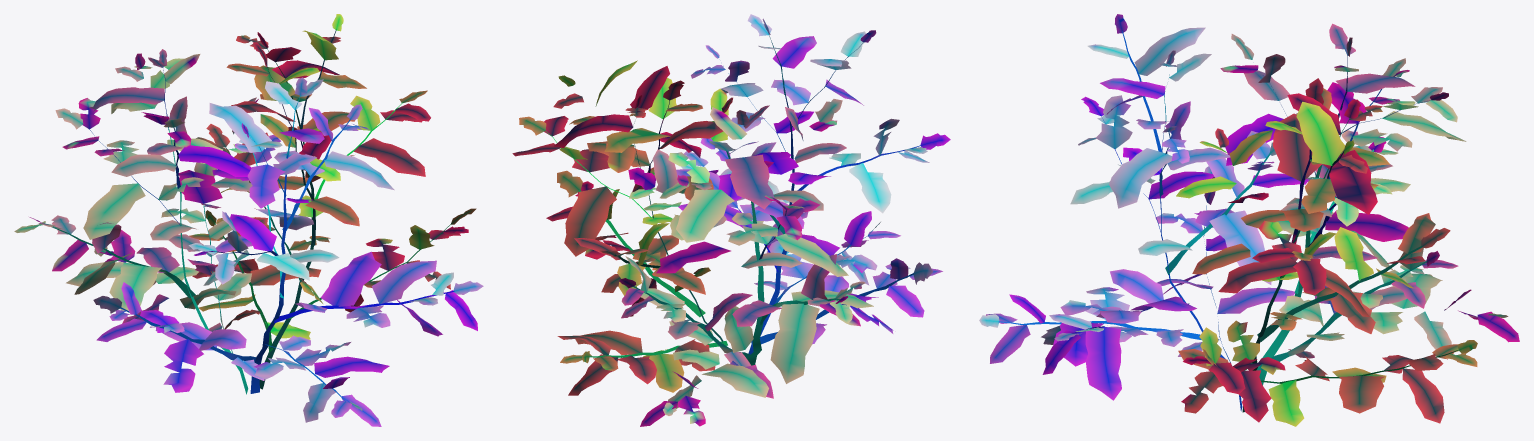
File: Black_Locust_wdvhberja_Mid_wdvhberja_VarA_LOD2.fbx
The picture shows the model from 3 angles, left to right: view 1: azimuth 30°, elevation 25°; view 2: azimuth 150°, elevation 25°; view 3: azimuth 270°, elevation 25°; orthographic projection. The views are drawn at different scales.
Parts seen in each view (by area): view 1: _tap5_VarA_LOD3; view 2: _tap5_VarA_LOD3; view 3: _tap5_VarA_LOD3.
Part boxes in pixels (left/top/right/bottom): _tap5_VarA_LOD3: left=14, top=14, right=483, bottom=426; _tap5_VarA_LOD3: left=512, top=14, right=950, bottom=426; _tap5_VarA_LOD3: left=979, top=14, right=1519, bottom=426.
Bounding box in the file's own units: 136 × 115 × 153.
